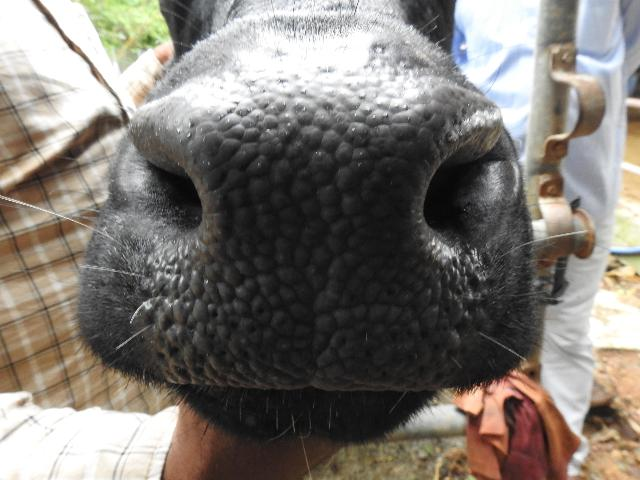Muzzle: (193, 101, 431, 386)
